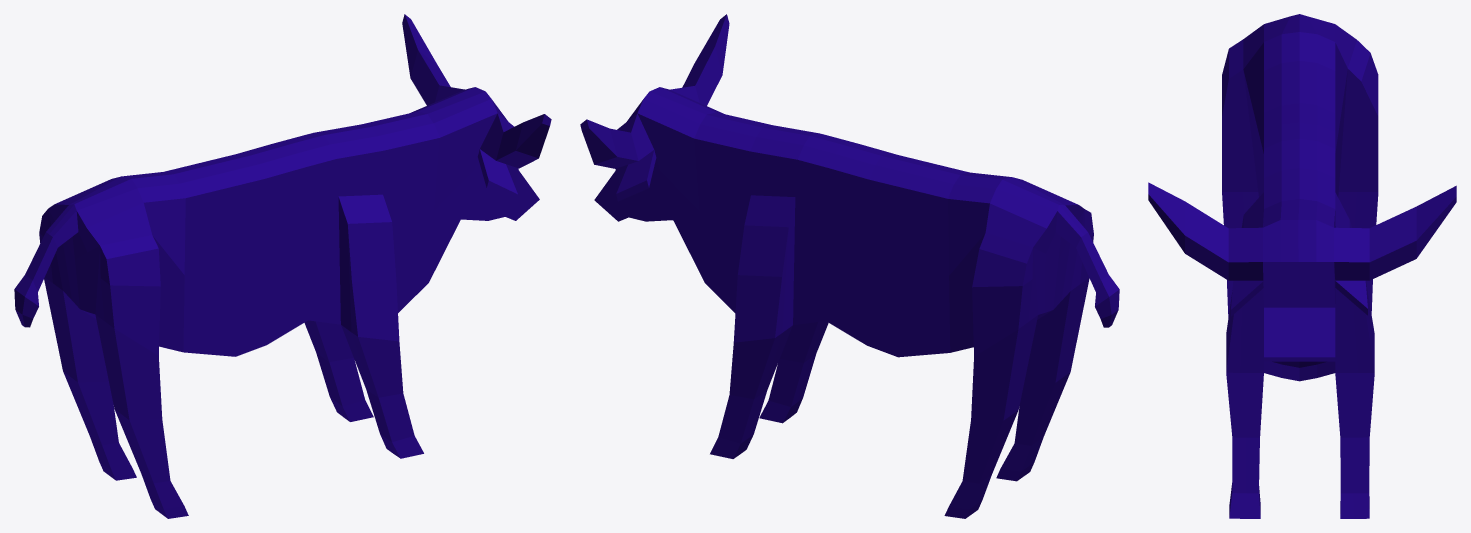
Rendered from cow1.glb.
The picture shows the model from 3 angles, left to right: view 1: azimuth 30°, elevation 25°; view 2: azimuth 150°, elevation 25°; view 3: azimuth 270°, elevation 25°; orthographic projection. The views are drawn at different scales.
Visible parts, largest first — view 1: Plane; view 2: Plane; view 3: Plane.
Part boxes in pixels (<box>): Plane: <box>14,14,551,518</box>; Plane: <box>580,14,1119,518</box>; Plane: <box>1148,14,1456,518</box>.
Bounding box in the file's own units: 9.04 × 6 × 4.35.
